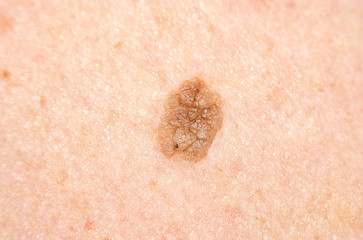melanoma: (136, 71, 242, 166)
